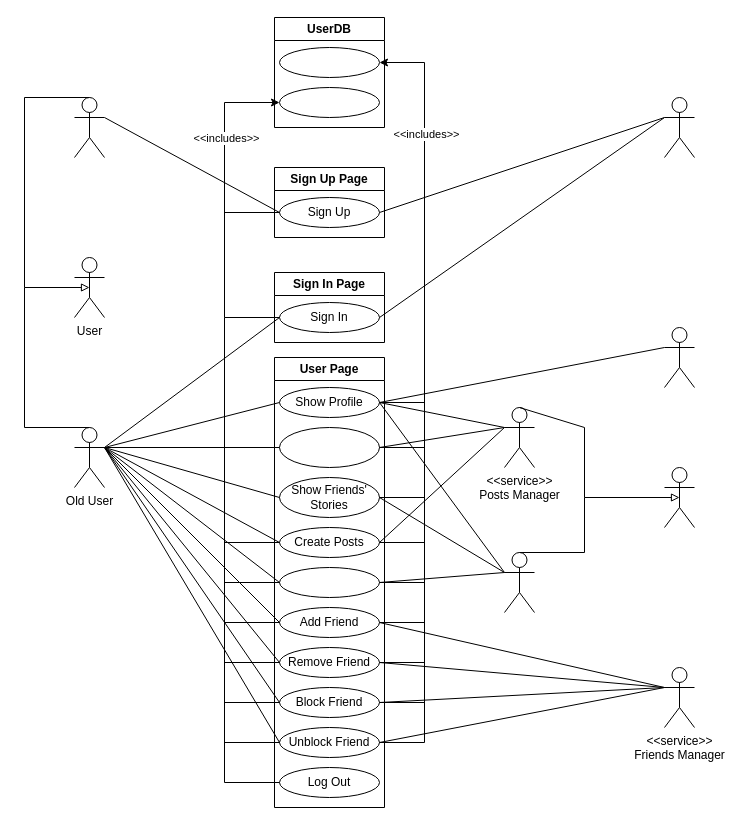
Some shapes in this 743 by 825 pixel diagram are drawn without their labels. Each missing label, with the centre of its shape:
"<<service>> Content Manager" goes at (x=679, y=497).
"<<service>> Profile Manager" goes at (x=679, y=357).
"<<service>> Stories Manager" goes at (x=519, y=582).
"<<service>> Validation" goes at (x=679, y=127).
"Create Stories" goes at (x=329, y=582).
"New User" goes at (x=89, y=127).
"Read DB" goes at (x=329, y=62).
"Save to DB" goes at (x=329, y=102).
"Show Friends' Posts" goes at (x=329, y=447).
